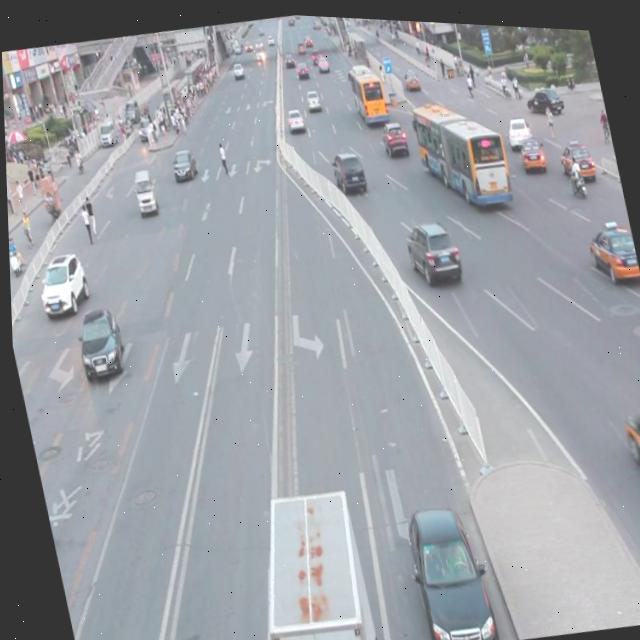bus: (237, 476, 376, 640)
car: (396, 491, 493, 640), (69, 301, 128, 384), (400, 210, 461, 283), (30, 247, 91, 318), (582, 213, 639, 278), (616, 393, 640, 509), (327, 144, 366, 193), (556, 132, 595, 177)
truck: (129, 166, 157, 213)
van: (408, 87, 513, 210)
